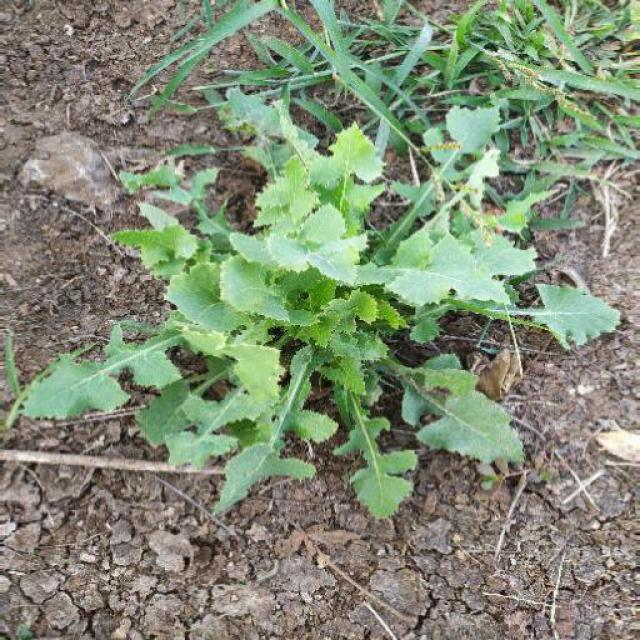weed: (30, 45, 619, 571)
